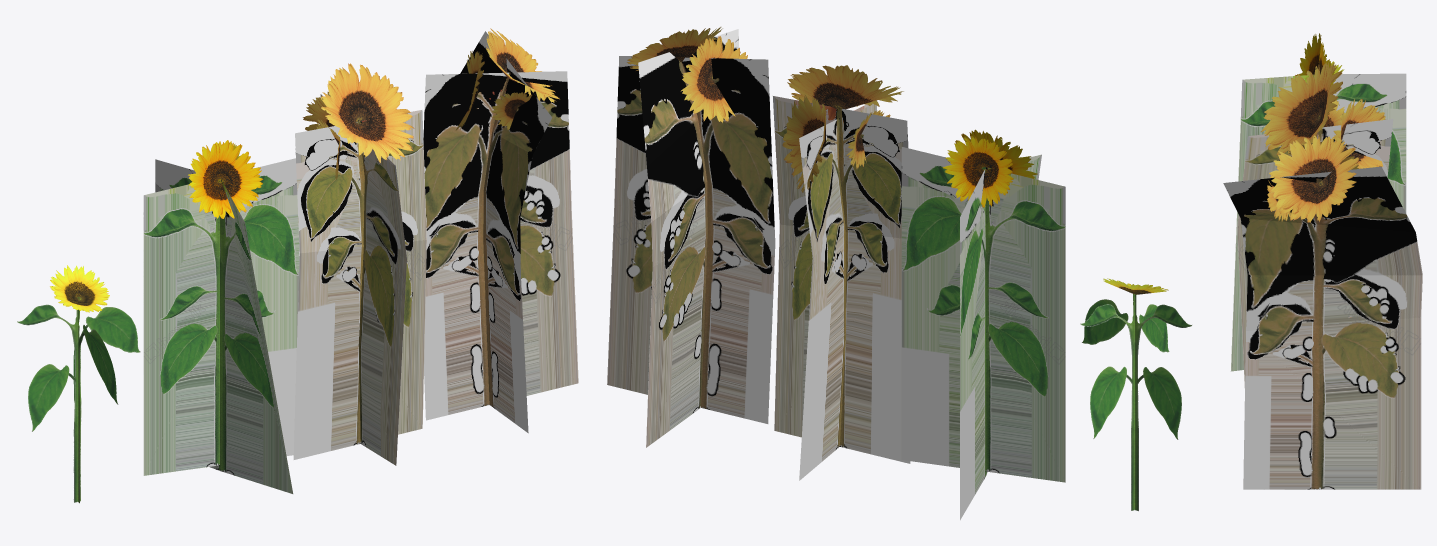
Rendered from Sunflowers set.obj.
3 renders of one model, left to right at view 1: azimuth 30°, elevation 25°; view 2: azimuth 150°, elevation 25°; view 3: azimuth 270°, elevation 25°, orthographic. The views are drawn at different scales.
Visible parts, largest first — view 1: sunflower_stick_OLD, sunflower_stick_green_sunflower_stick_green.001, sunflower_stick_dried, sunflower_stick_joung_sunflower_stick_joung.001; view 2: sunflower_stick_OLD, sunflower_stick_green_sunflower_stick_green.001, sunflower_stick_dried, sunflower_stick_joung_sunflower_stick_joung.001; view 3: sunflower_stick_OLD, sunflower_stick_dried, sunflower_stick_green_sunflower_stick_green.001.
Boxes of the visible parts, left/top/right/bottom form: sunflower_stick_OLD: left=423, top=28, right=578, bottom=433; sunflower_stick_green_sunflower_stick_green.001: left=143, top=140, right=299, bottom=493; sunflower_stick_dried: left=293, top=63, right=426, bottom=465; sunflower_stick_joung_sunflower_stick_joung.001: left=17, top=265, right=140, bottom=503; sunflower_stick_OLD: left=607, top=27, right=775, bottom=447; sunflower_stick_green_sunflower_stick_green.001: left=901, top=129, right=1065, bottom=520; sunflower_stick_dried: left=773, top=65, right=910, bottom=480; sunflower_stick_joung_sunflower_stick_joung.001: left=1080, top=278, right=1191, bottom=511; sunflower_stick_OLD: left=1223, top=135, right=1422, bottom=489; sunflower_stick_dried: left=1237, top=62, right=1393, bottom=387; sunflower_stick_green_sunflower_stick_green.001: left=1230, top=33, right=1406, bottom=371.
Size of the model in its own units: 3.97 by 2.59 by 1.25.
8 materials, 8 textured.
